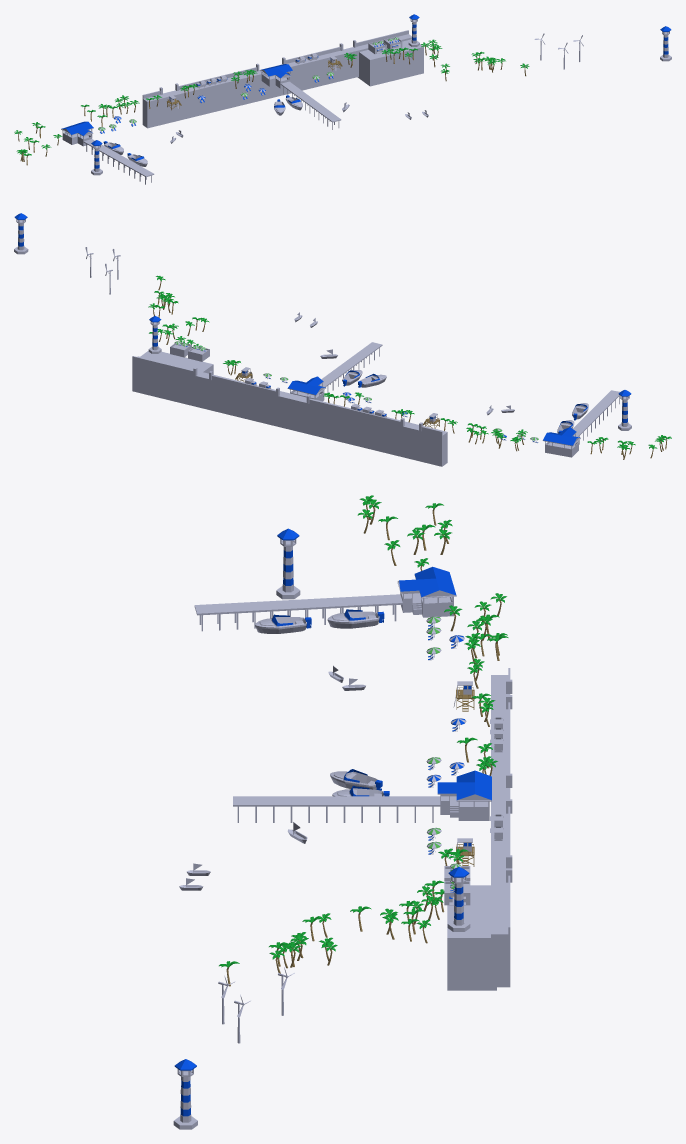
File: Beach.glb
The picture shows the model from 3 angles, top to bottom: view 1: azimuth 30°, elevation 25°; view 2: azimuth 150°, elevation 25°; view 3: azimuth 270°, elevation 25°; orthographic projection. The views are drawn at different scales.
Parts seen in each view (by area): view 1: Road.001, BeachHall.001, BeachHall; view 2: Road.001, BeachHall.001, BeachHall; view 3: Road.001, BeachHall.001, BeachHall, Mercusuar, Mercusuar.001.
Part boxes in pixels (x1,y1,x2,y2): Road.001: [142, 30, 423, 128]; BeachHall.001: [61, 121, 154, 184]; BeachHall: [260, 64, 341, 129]; Road.001: [132, 351, 447, 466]; BeachHall.001: [542, 390, 619, 457]; BeachHall: [287, 342, 382, 401]; Road.001: [447, 668, 512, 990]; BeachHall.001: [194, 566, 456, 631]; BeachHall: [233, 770, 491, 822]; Mercusuar: [276, 528, 300, 599]; Mercusuar.001: [173, 1059, 197, 1129].
Bounding box in the file's own units: 118 × 10.93 × 28.56.
